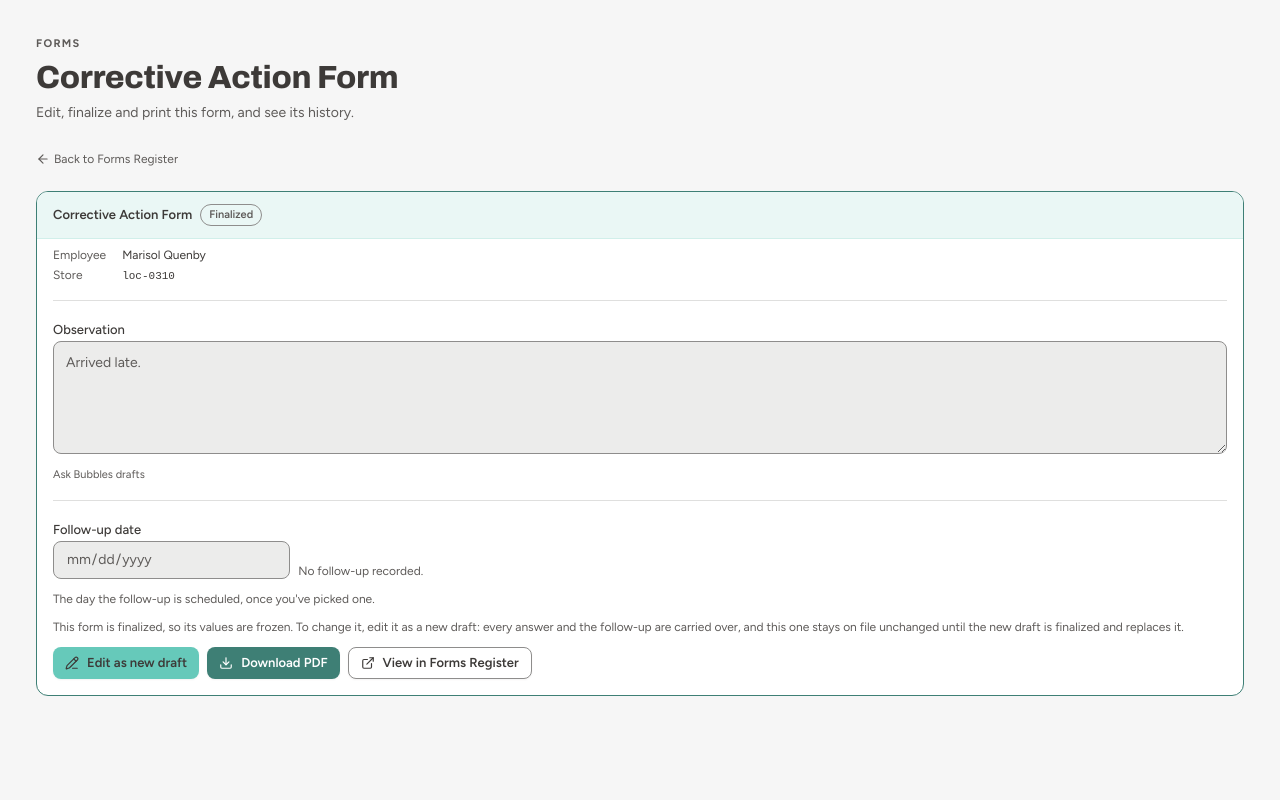
Scenario: who is offered Edit (the server's edit permission for that template) › on the form page, Edit as new draft asks a view-only role for no reason and opens nothing
Click the button "Edit as new draft" at (126,662), box [53, 646, 199, 678]
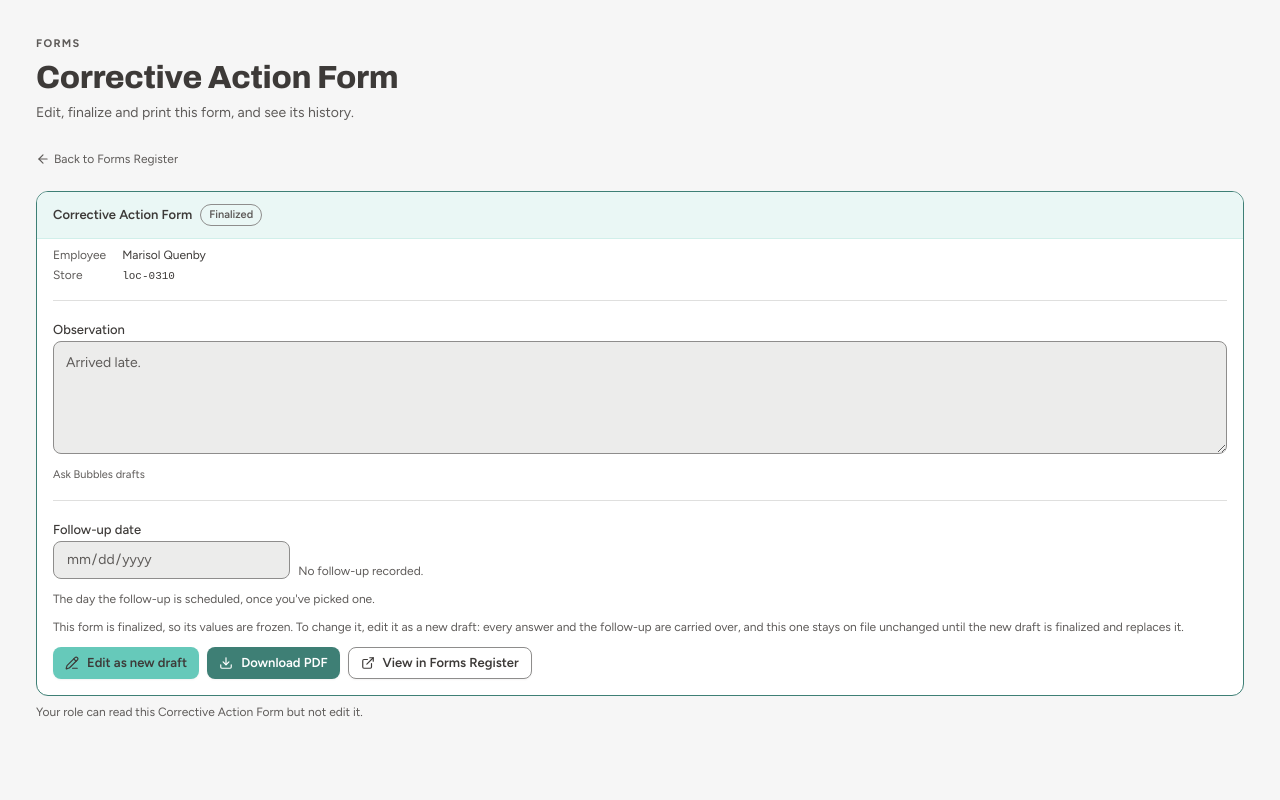
Check: the message named "may not edit" shows "can read this Corrective Action Form but not edit it", box [36, 704, 363, 718]
